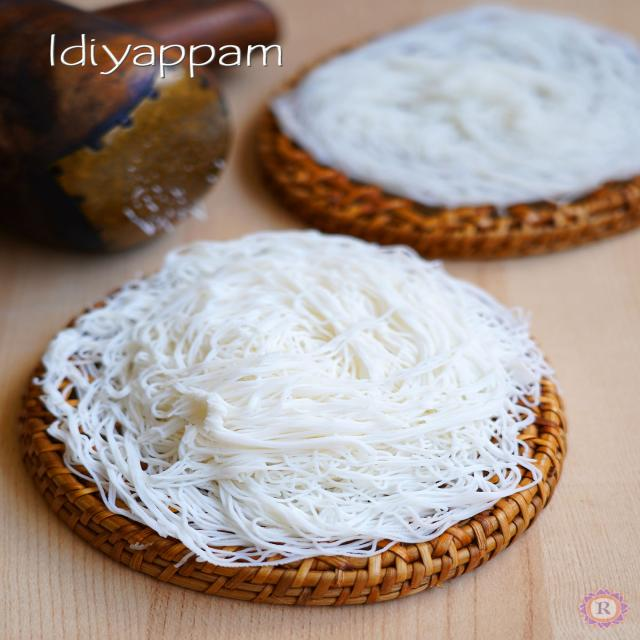IDIYAPPAM: (33, 226, 542, 569)
